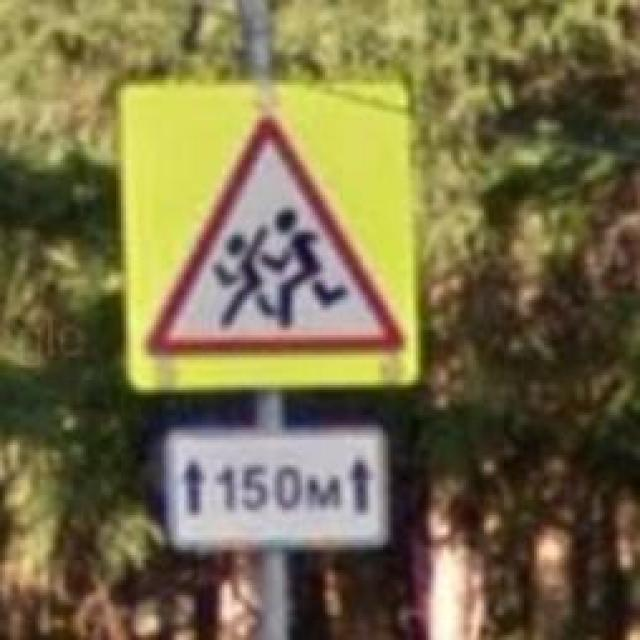Dzieci: (146, 112, 406, 362)
